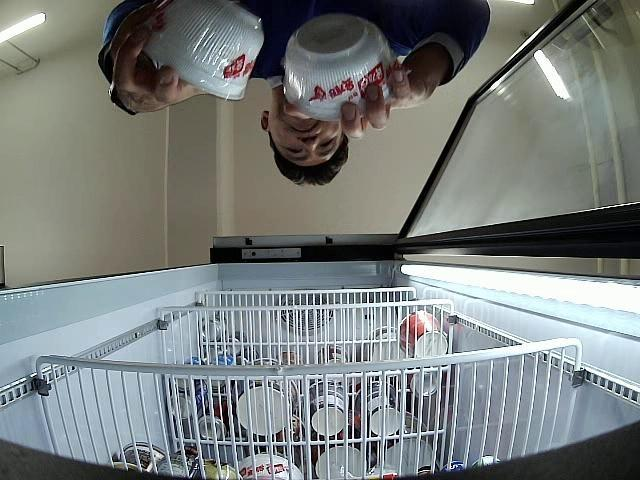09_yukGaeJang: (284, 15, 401, 120), (144, 0, 264, 101)
